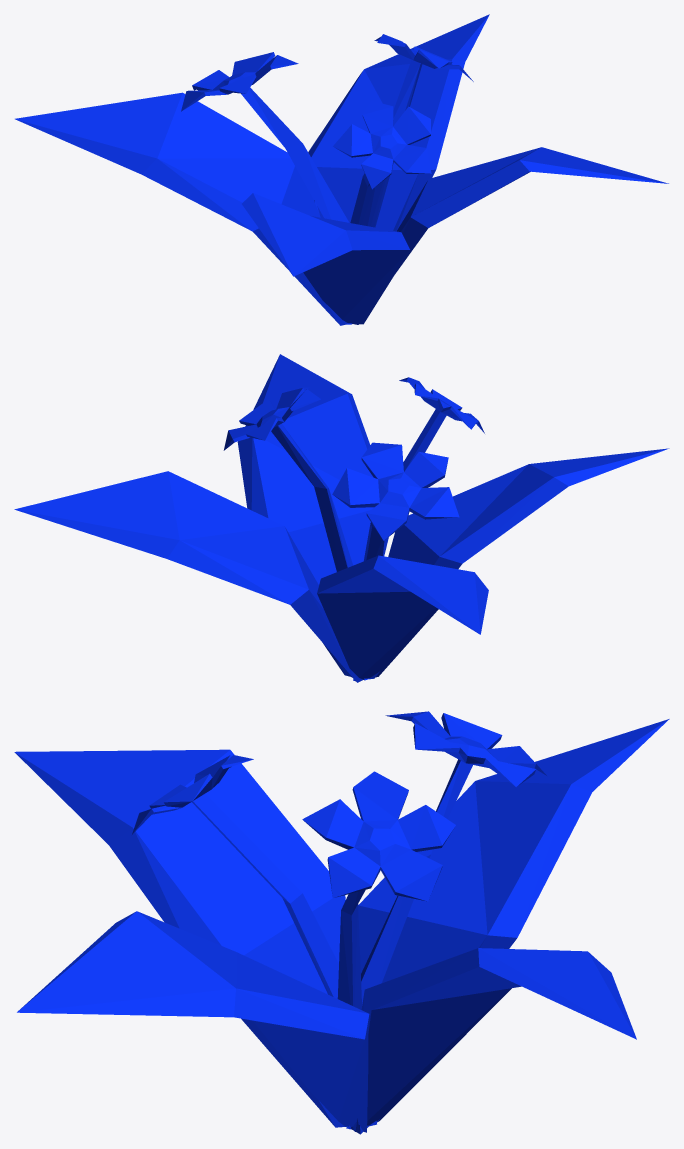
Rendered from Flower_blue.dae.
The picture shows the model from 3 angles, top to bottom: view 1: azimuth 30°, elevation 25°; view 2: azimuth 150°, elevation 25°; view 3: azimuth 270°, elevation 25°; orthographic projection. The views are drawn at different scales.
Parts seen in each view (by area): view 1: Flower_blue; view 2: Flower_blue; view 3: Flower_blue.
Boxes of the visible parts, bbox=[...] form: Flower_blue: bbox=[15, 14, 668, 325]; Flower_blue: bbox=[14, 354, 669, 682]; Flower_blue: bbox=[14, 711, 669, 1134].
Bounding box in the file's own units: 1.15 × 0.6264 × 0.9926.
